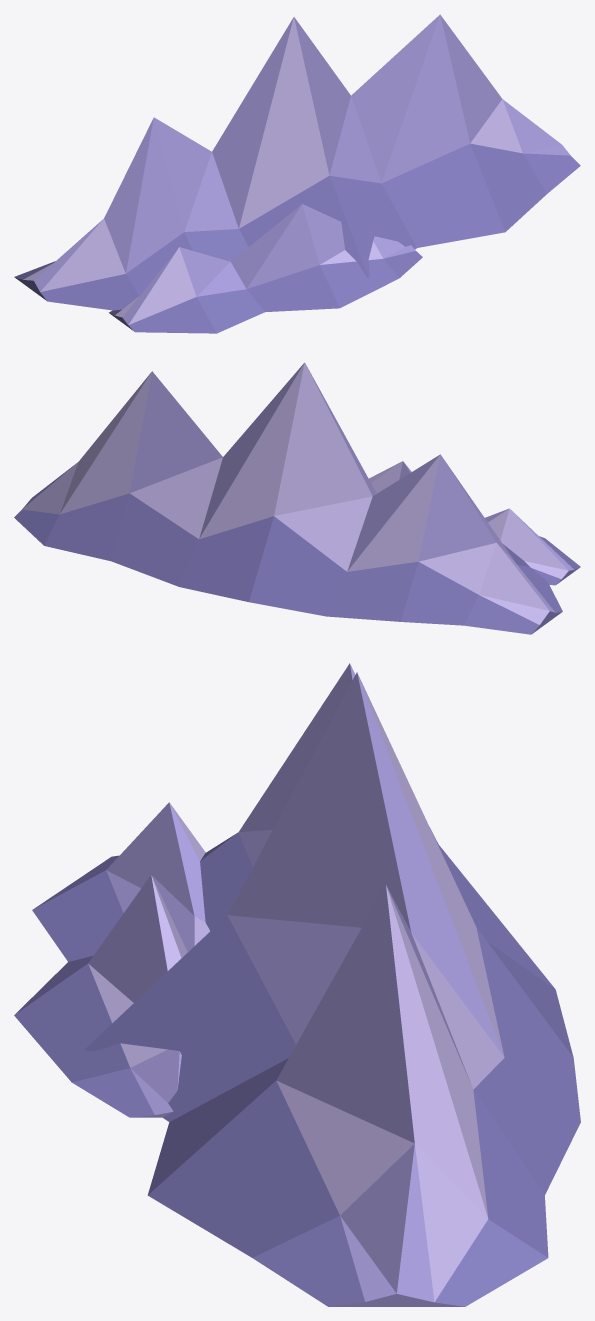
3 renders of one model, top to bottom at view 1: azimuth 30°, elevation 25°; view 2: azimuth 150°, elevation 25°; view 3: azimuth 270°, elevation 25°, orthographic. The views are drawn at different scales.
Parts seen in each view (by area): view 1: 连续折脊_purple.001; view 2: 连续折脊_purple.001; view 3: 连续折脊_purple.001.
Part boxes in pixels (box(x1,y1,x2,y2)): 连续折脊_purple.001: box(14, 14, 580, 333); 连续折脊_purple.001: box(14, 362, 580, 634); 连续折脊_purple.001: box(14, 663, 580, 1306).
Bounding box in the file's own units: 3.15 × 1.18 × 1.57.
